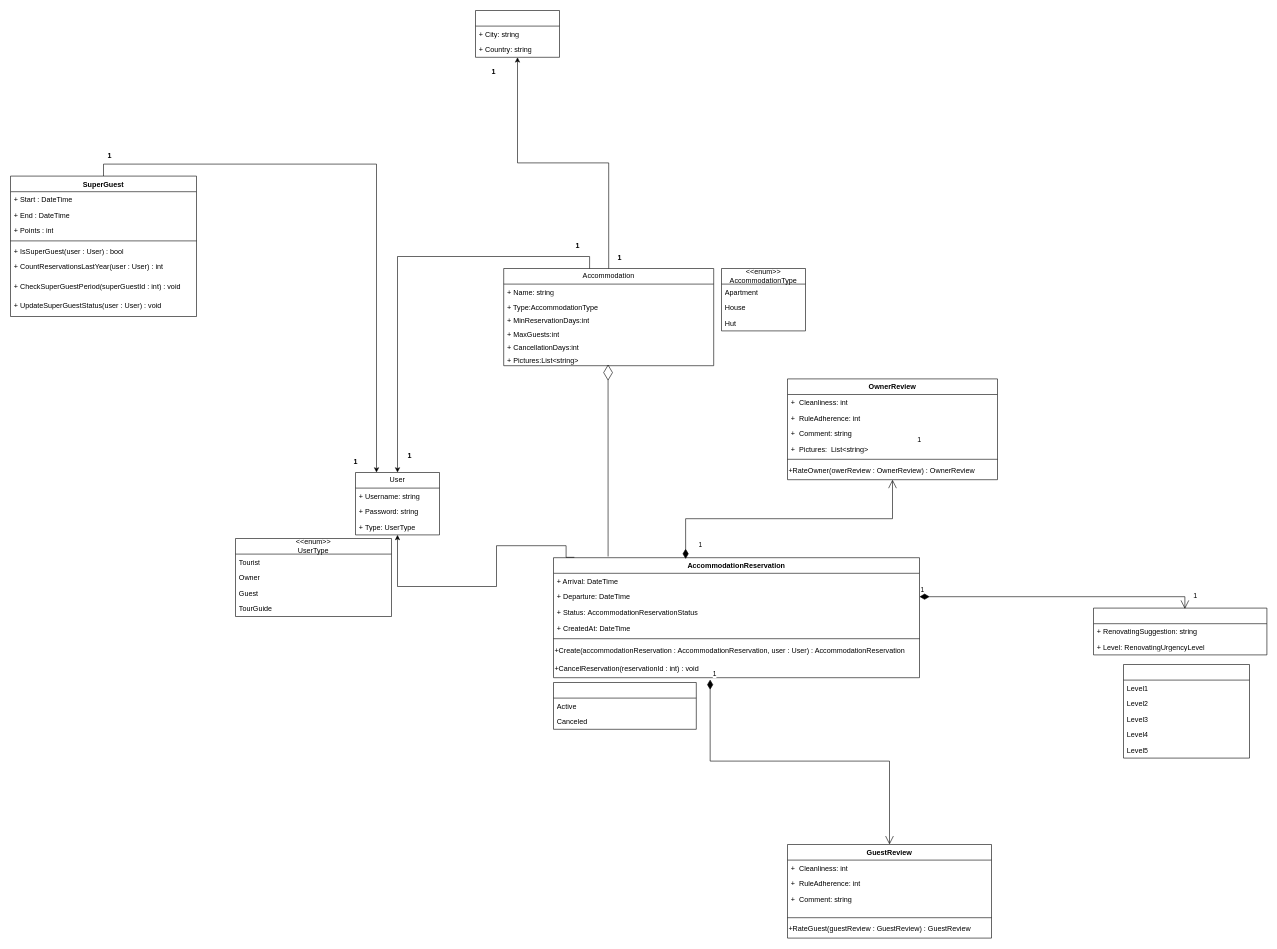
Some shapes in this 1277 by 949 pixel diagram are drawn without their labels. Each missing label, with the box of its shape:
<<enum>> AccommodationReservationStatus: (553, 682, 696, 729)
<<enum>> RenovatingUrgencyLevel: (1123, 664, 1250, 758)
Location: (475, 10, 560, 57)
RenovatingRequest: (1093, 608, 1267, 655)
